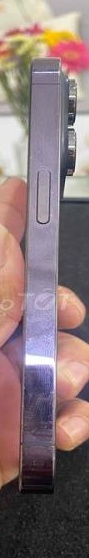scratch: (26, 138, 63, 220), (24, 60, 62, 78)
